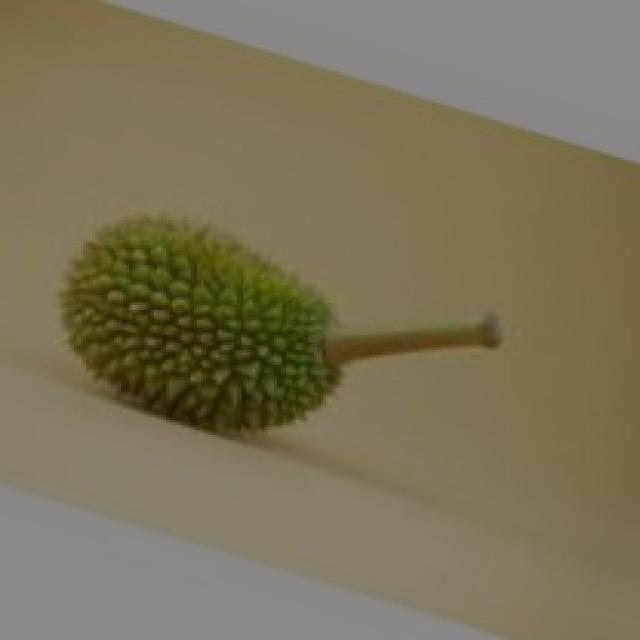fruit: (28, 193, 372, 465)
